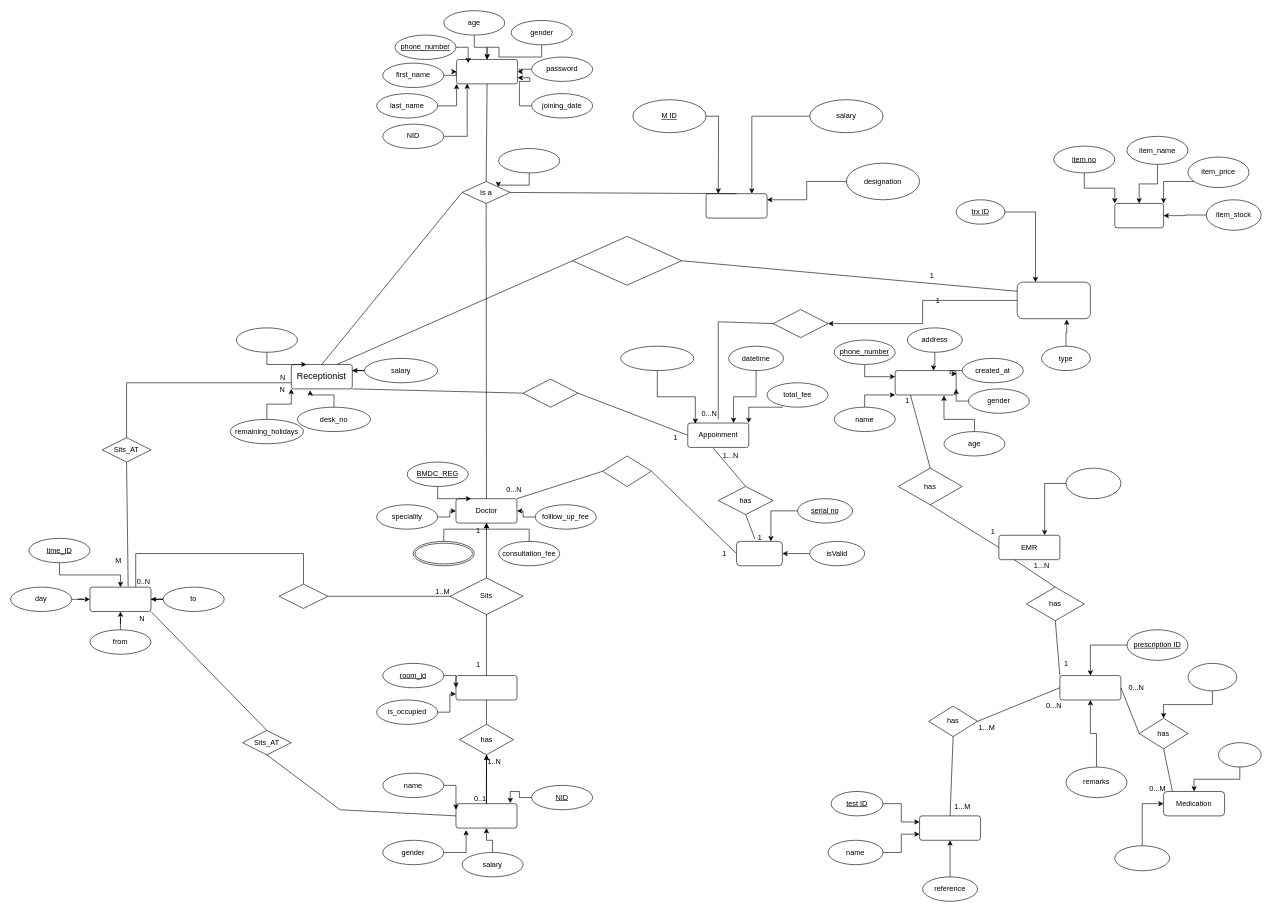
This 1272x912 diagram has some shape labels left out. Here are the shapes that lost their labels. From the top down, the box of each, then its label:
(456, 59, 518, 84): User
(498, 148, 560, 173): user_type
(705, 193, 767, 218): Manager
(1114, 203, 1164, 228): Item
(572, 236, 682, 285): create
(1017, 282, 1090, 319): Transaction
(236, 327, 297, 352): R_ID
(773, 309, 828, 338): for
(620, 346, 694, 371): appointment ID
(522, 379, 578, 407): creates
(895, 370, 956, 395): Patient
(602, 455, 651, 486): under
(1065, 468, 1121, 499): emr_no
(413, 541, 474, 566): degree
(736, 541, 782, 566): Token
(89, 587, 151, 612): Timetable
(278, 583, 328, 608): AT
(455, 675, 517, 700): Room
(1059, 675, 1121, 700): Prescription
(1187, 663, 1237, 691): dose
(1218, 742, 1261, 767): drug no
(455, 803, 517, 828): Nurse
(919, 815, 981, 840): Test
(1114, 845, 1170, 871): drug_name
